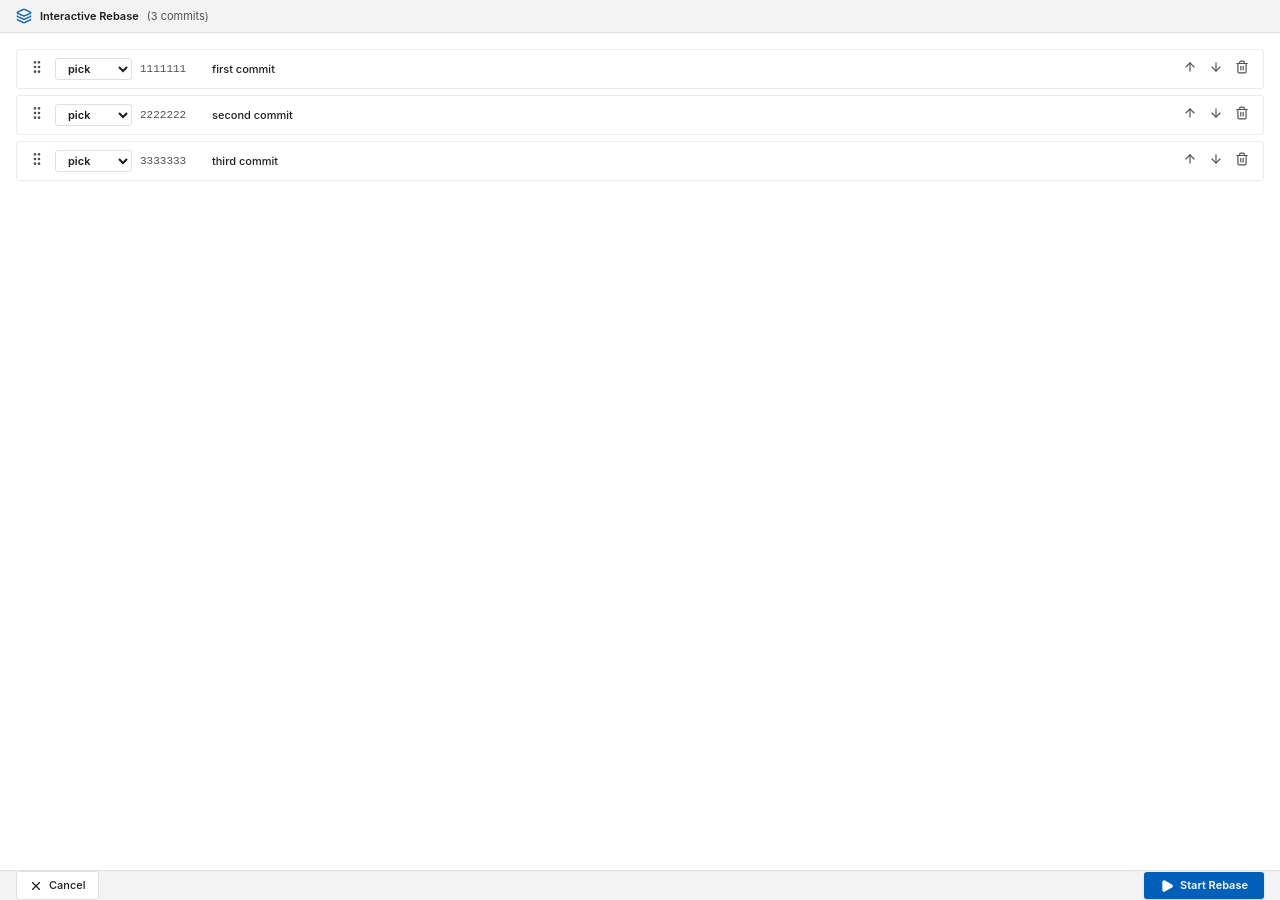
Test: InteractiveRebaseView Component › displays validation error and disables Start Rebase when first action is squash
Select "squash" in the dropdown named "Action for commit 1111111" at (94, 69), box [55,58,132,80]
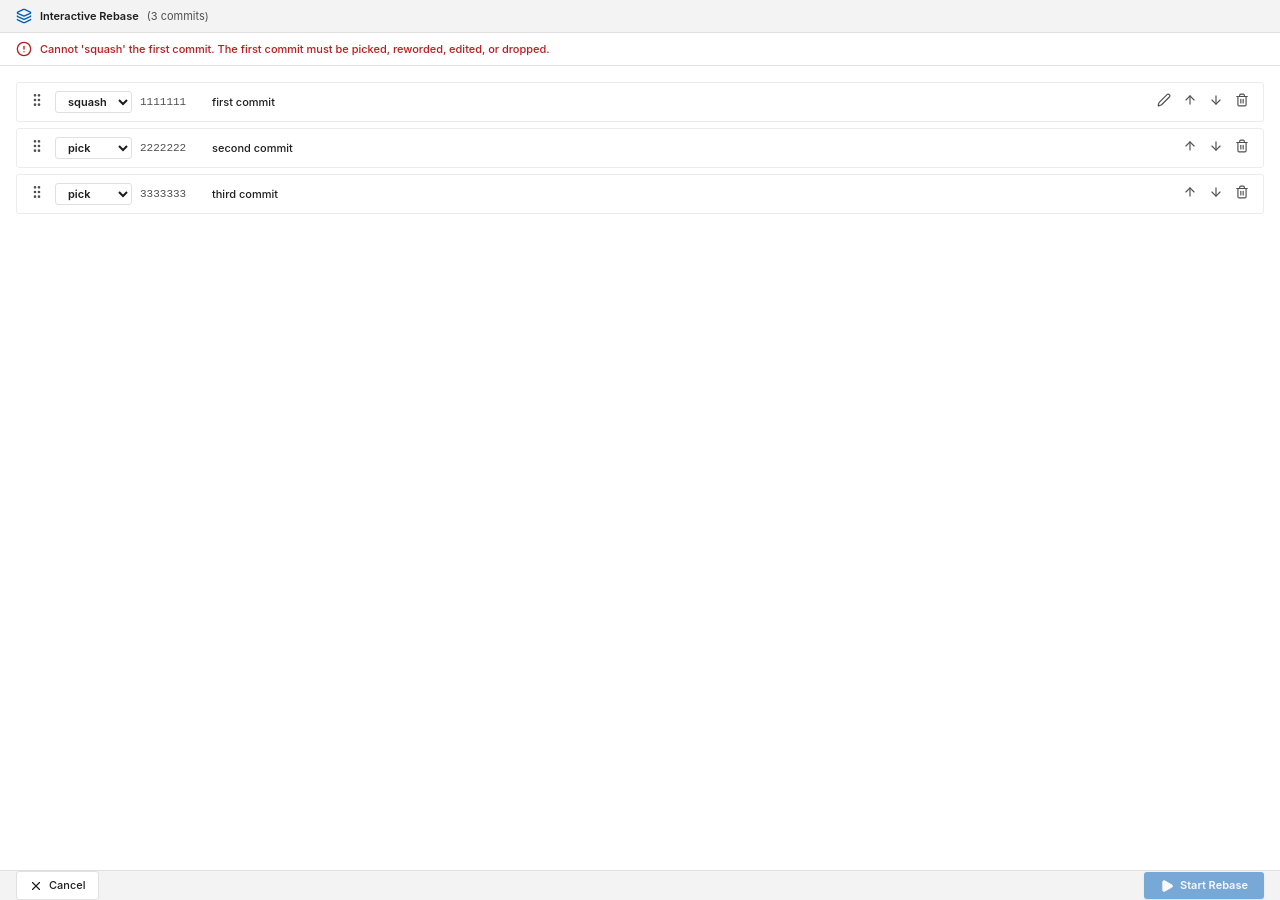
Now the text "Cannot 'squash' the first commit" is shown, box [40,42,550,56]
Now the button "Start Rebase" is disabled, box [1144,872,1264,899]
